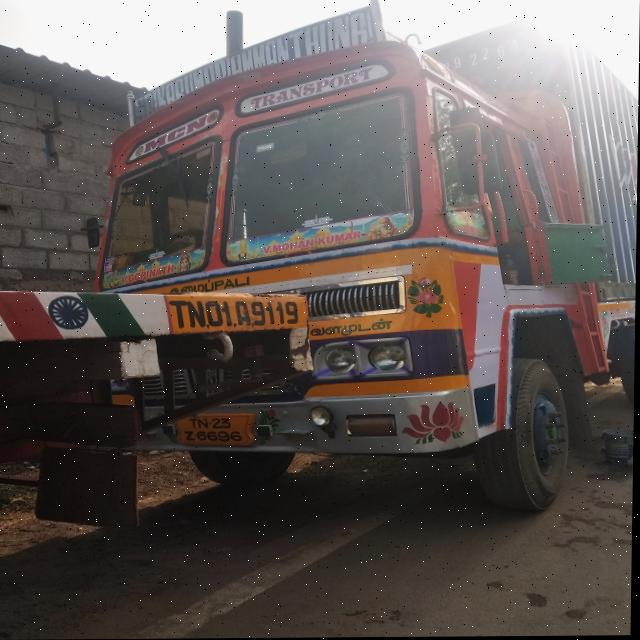plate: (167, 298, 308, 334), (175, 413, 252, 448)
